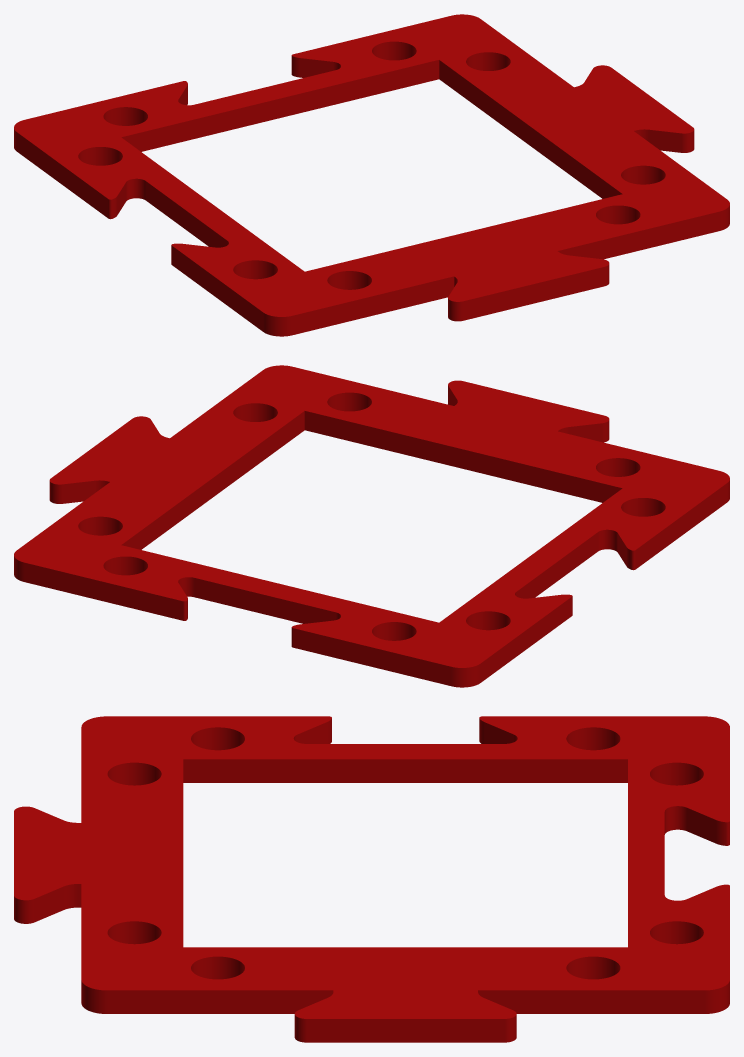
The model's file is V5_Interlinking Baseplate.obj.
3 renders of one model, top to bottom at view 1: azimuth 30°, elevation 25°; view 2: azimuth 150°, elevation 25°; view 3: azimuth 270°, elevation 25°, orthographic. The views are drawn at different scales.
Parts seen in each view (by area): view 1: Solid1:38; view 2: Solid1:38; view 3: Solid1:38.
Part boxes in pixels (<box>): Solid1:38: <box>14,14,729,336</box>; Solid1:38: <box>14,365,729,687</box>; Solid1:38: <box>14,716,729,1042</box>.
Bounding box in the file's own units: 54.92 × 2 × 54.92.
